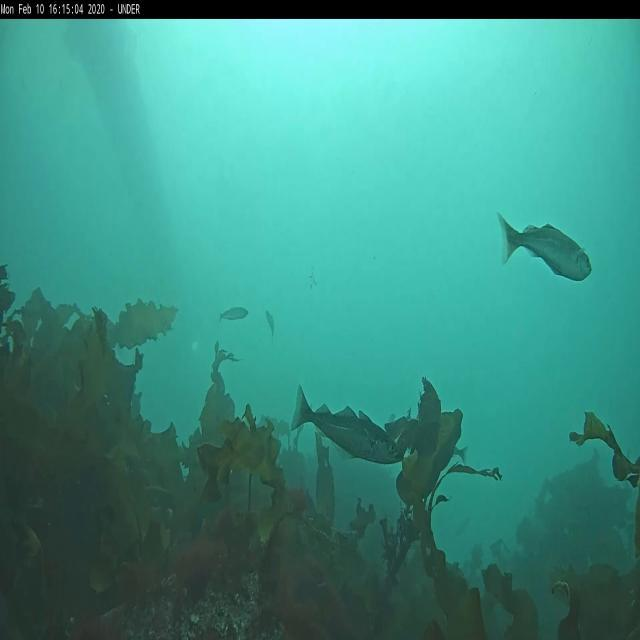fish: (293, 384, 402, 463), (500, 213, 593, 283), (221, 304, 249, 322), (266, 311, 274, 344)
